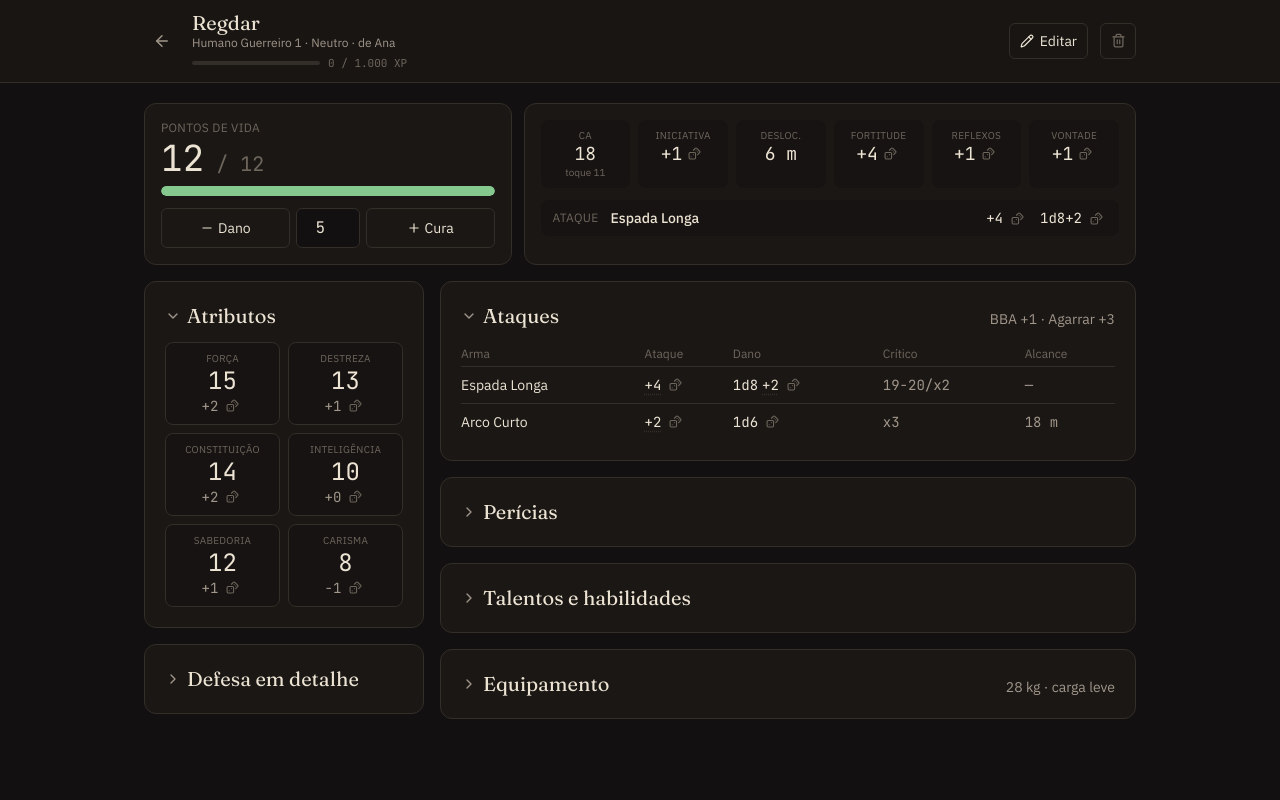
Test: CharacterSheet › seções recolhíveis lembram o estado
Step 1. Click the button "Perícias" → (509, 512), box left=461, top=498, right=558, bottom=526
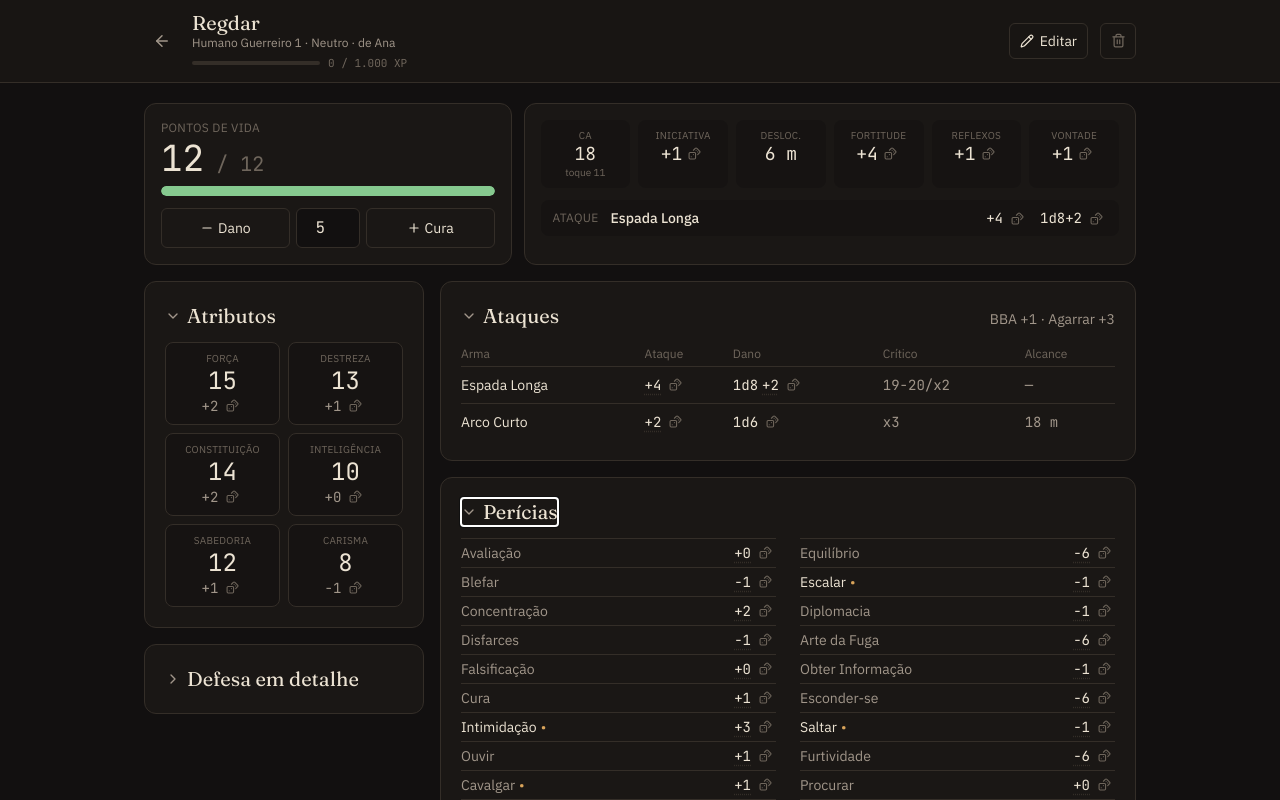
expect the button "Perícias" is expanded: met, box left=461, top=498, right=558, bottom=526
